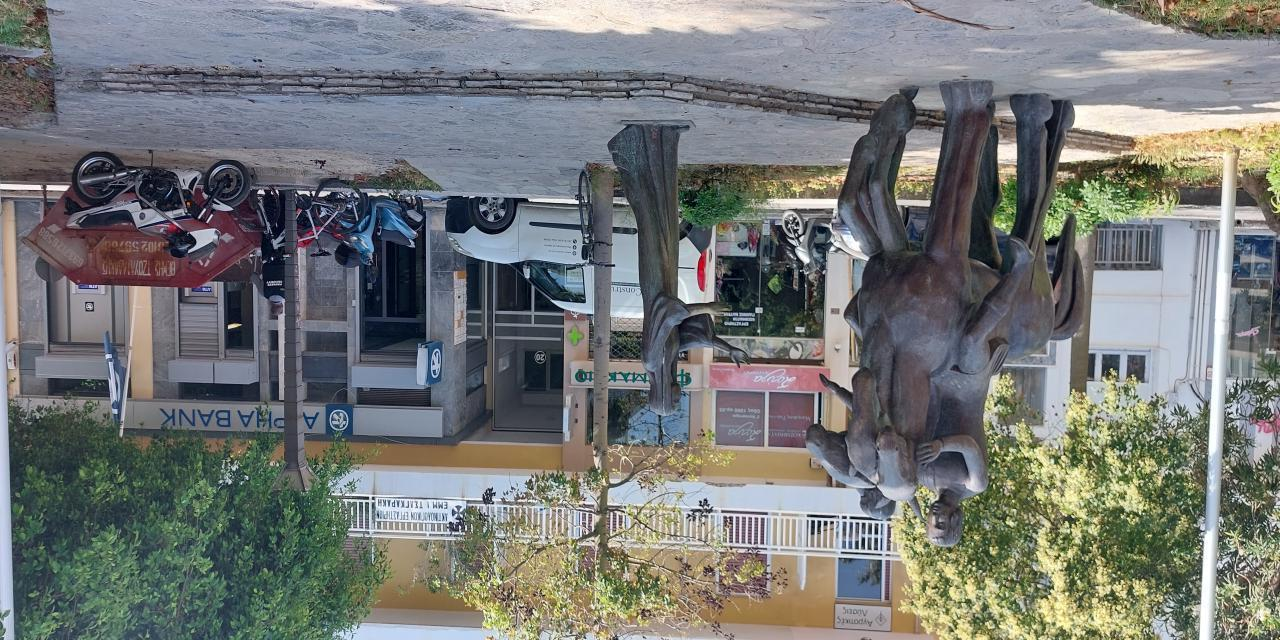Aretousa: (607, 79, 1087, 547)
